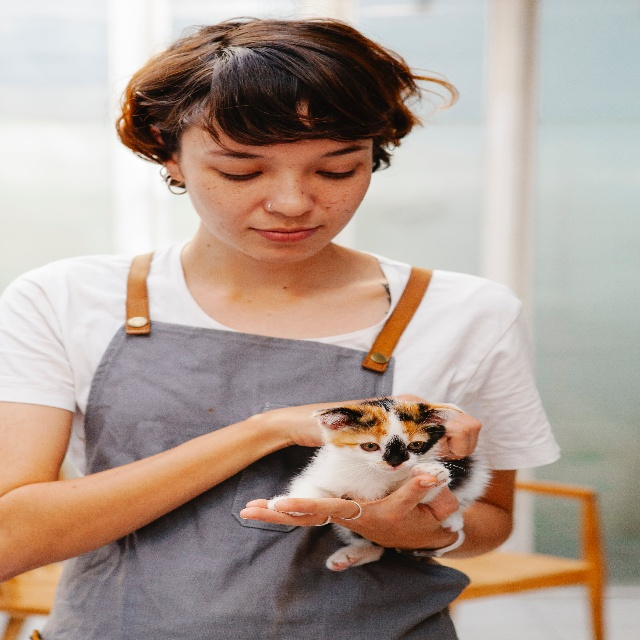Sin_guantes: (239, 474, 439, 548), (440, 408, 482, 461)
